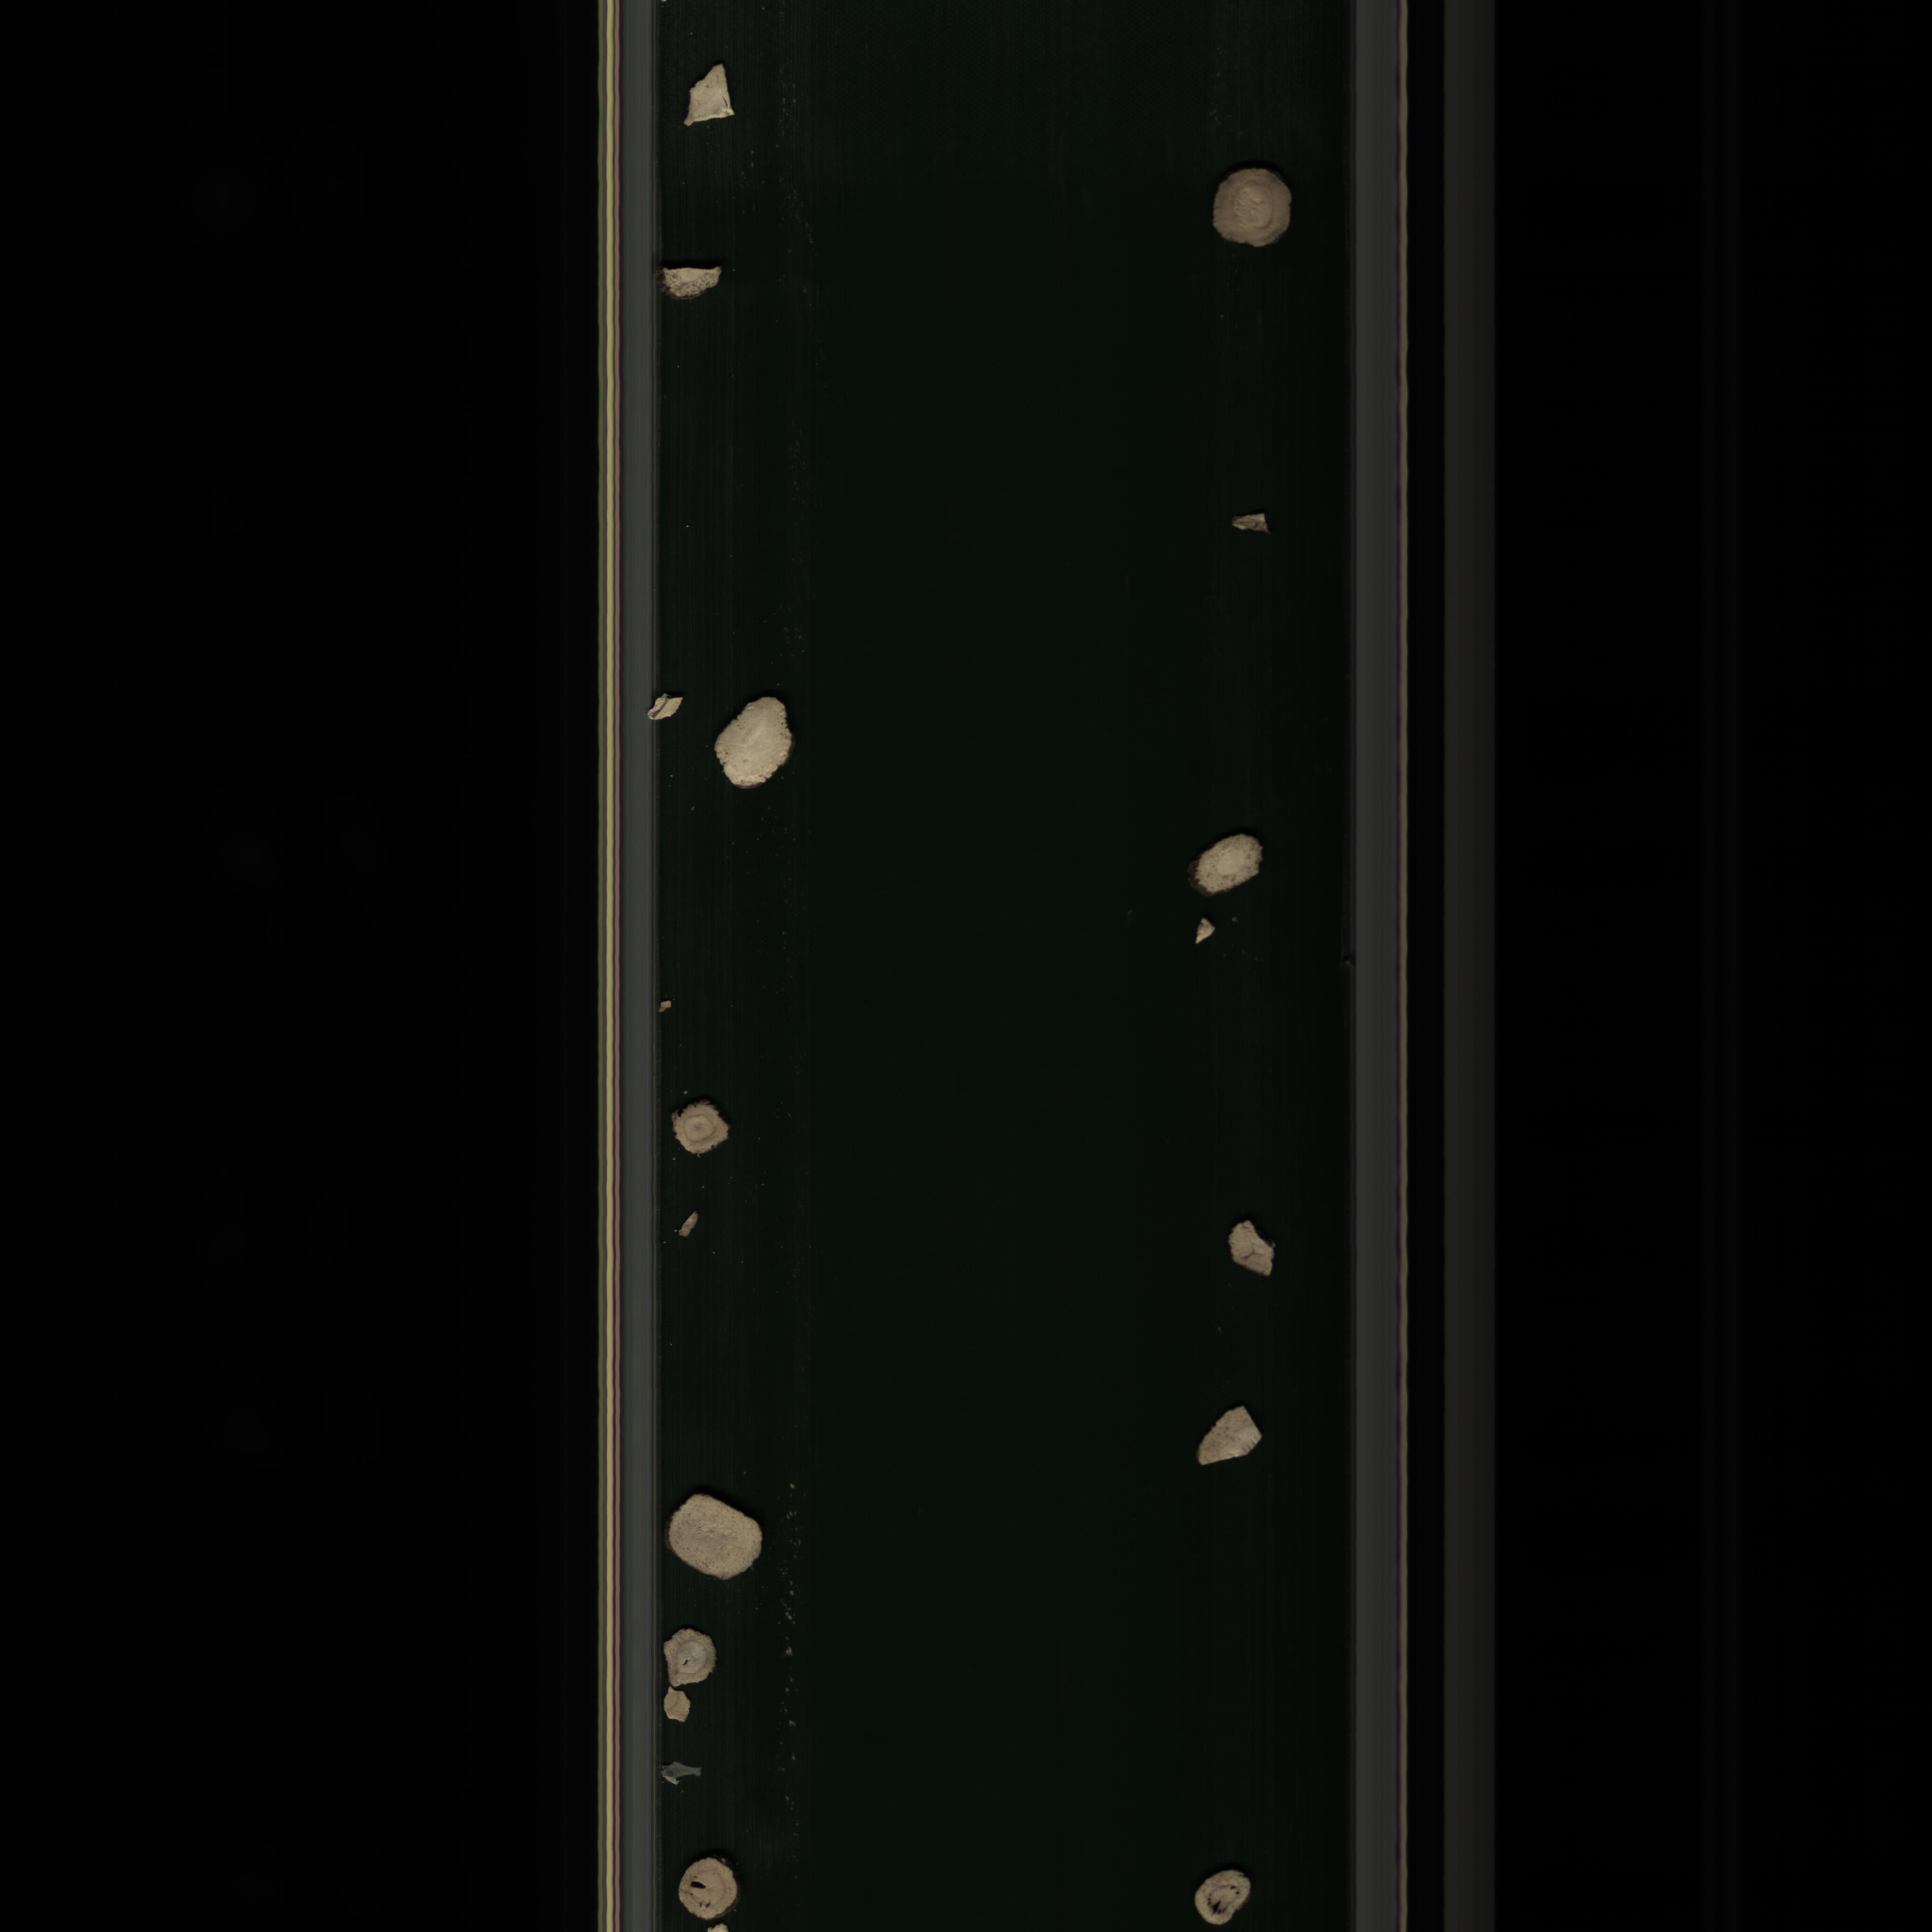bark: (1224, 510, 1281, 541)
debris: (1187, 1398, 1267, 1476), (679, 60, 754, 134), (653, 257, 736, 303), (1224, 1217, 1283, 1279), (637, 685, 699, 724), (655, 1679, 694, 1732), (676, 1203, 702, 1242), (1189, 915, 1219, 948)
hole: (669, 1849, 747, 1920), (1187, 1861, 1258, 1928), (662, 1626, 725, 1686)
moldy: (1210, 161, 1302, 260)
